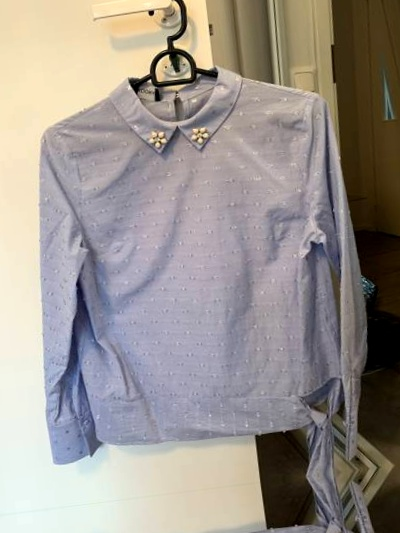Blouse: (0, 29, 396, 496), (53, 479, 400, 533), (0, 529, 51, 533)
